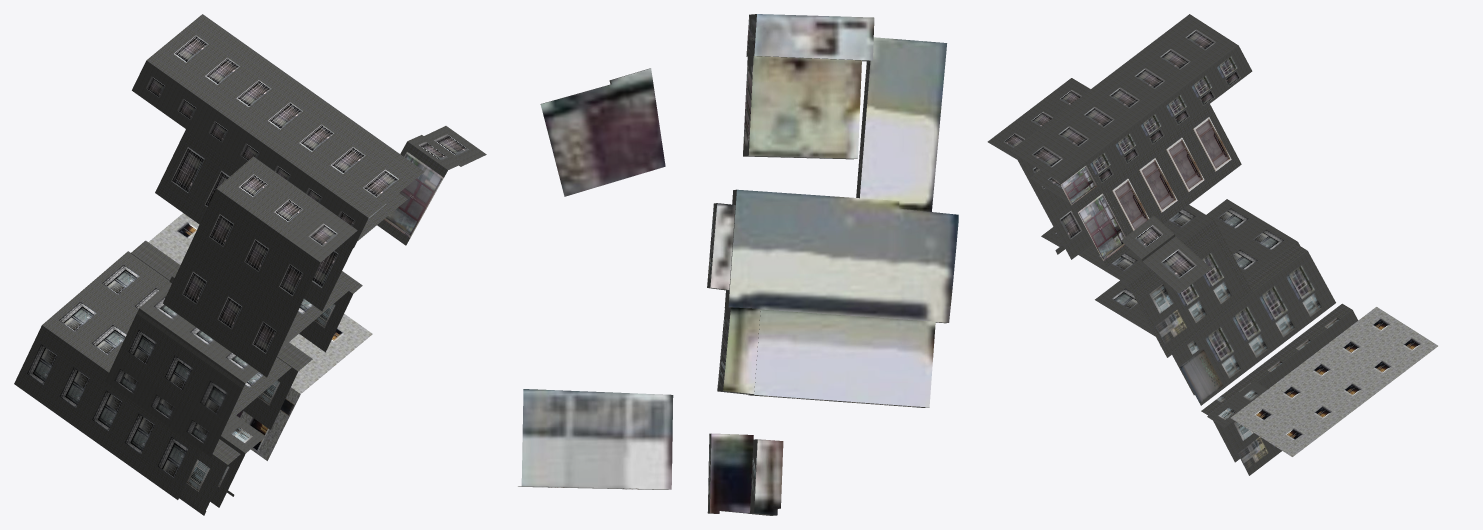
3 views of the same model, side by side, from view 1: azimuth 30°, elevation 25°; view 2: azimuth 150°, elevation 25°; view 3: azimuth 270°, elevation 25° (orthographic). The views are drawn at different scales.
Size of the model in its own units: 38.41 by 42.5 by 44.76.
Materials: 45 (45 with a texture image).
